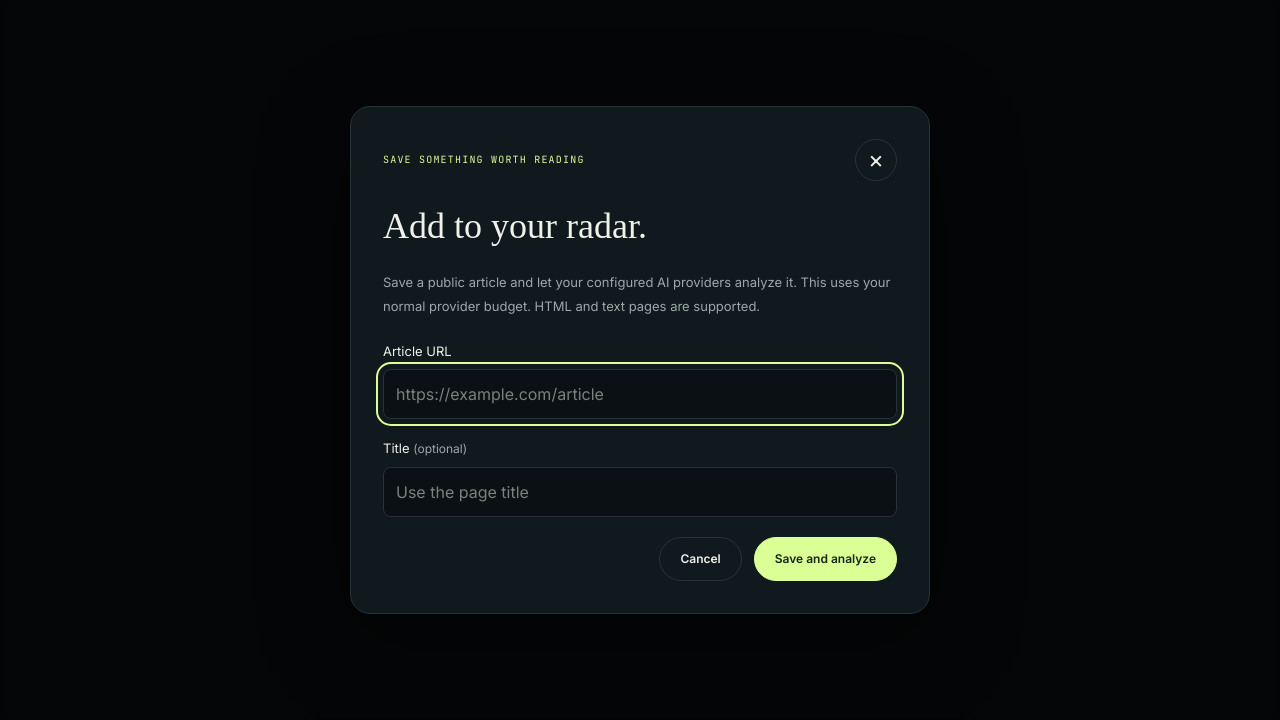
Scenario: explains existing records and keeps the dialog open while work is pending
This screenshot has width=1280, height=720.
Later steps or results of the test are not shown.
Type "https://example.org/article" into the field labelled "Article URL". click: (640, 394)
box: [383,369,897,419]
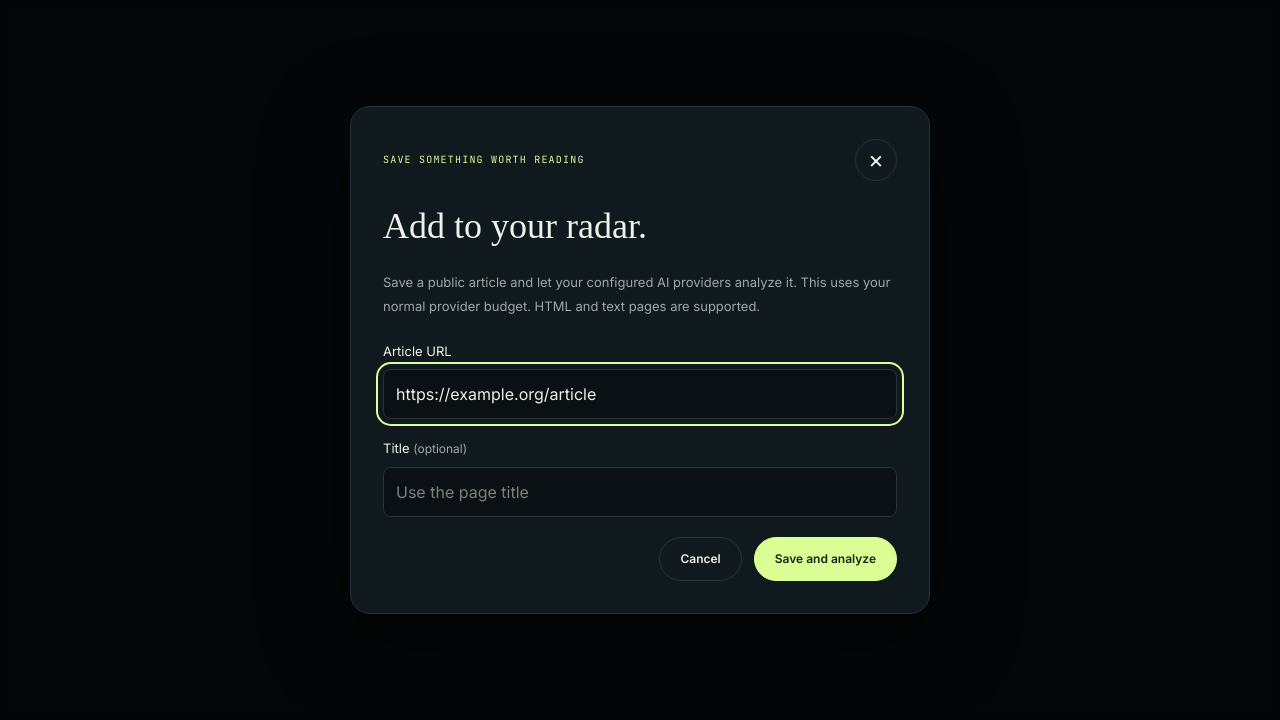
Click the button "Save and analyze". click: (825, 559)
box: [754,537,897,581]
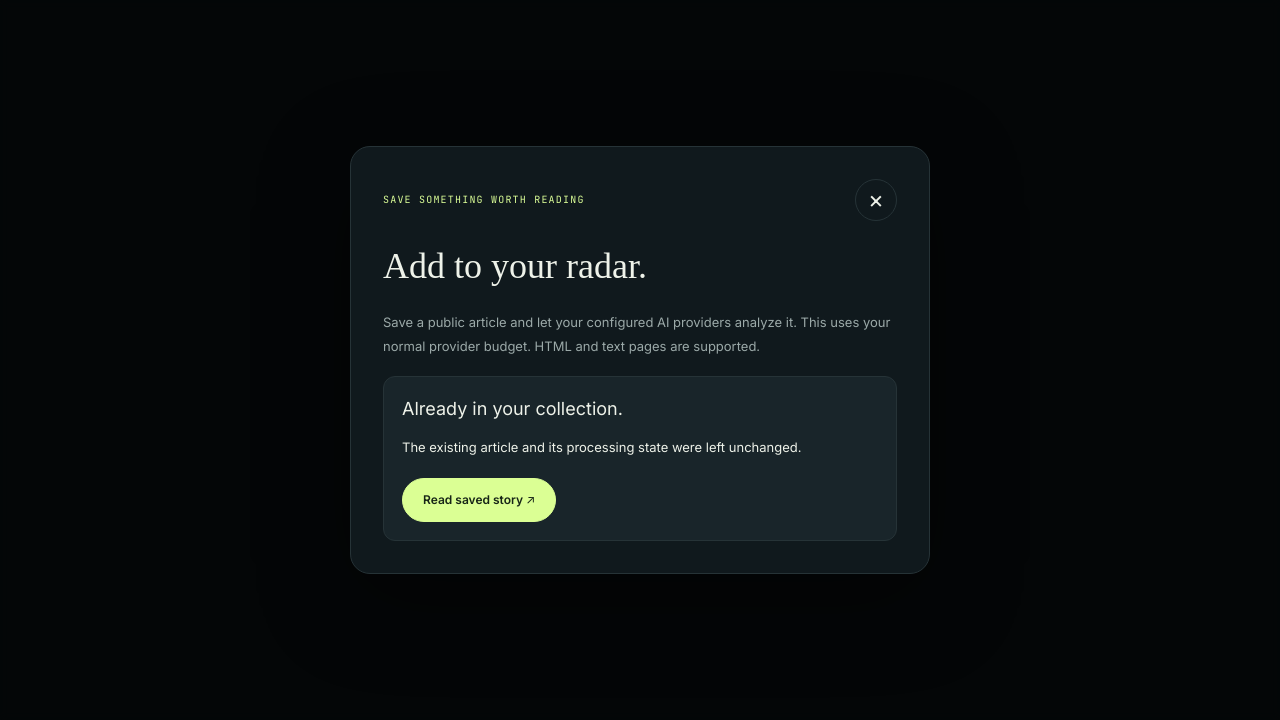
Expected: the heading "Already in your collection." is shown, [402,398,623,419]
